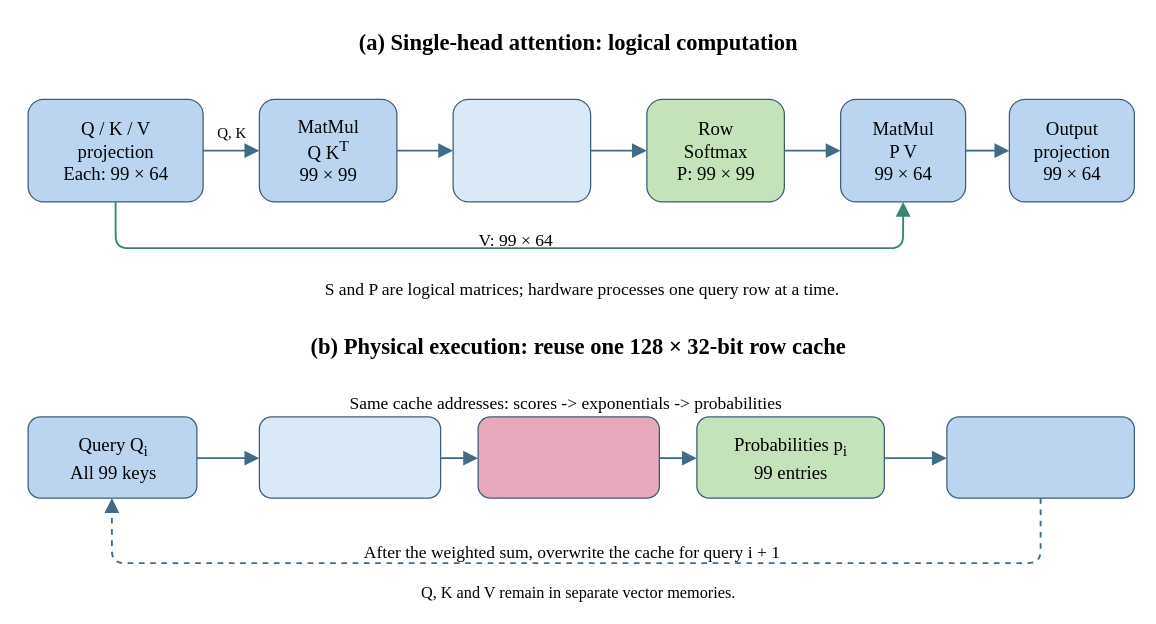
This 1156x624 diagram has some shape labels left out. The shapes that lost their labels are listed below. From the top down, each one's box as (x1, y1, x2, y2) in pixels, then its label:
(452, 98, 591, 202): Scale 1 / √64 = 1 / 8
(258, 416, 441, 498): Scores s i 99 entries
(477, 416, 659, 498): Exponentials 99 entries
(946, 416, 1134, 498): Weighted sum p i V 64 features
